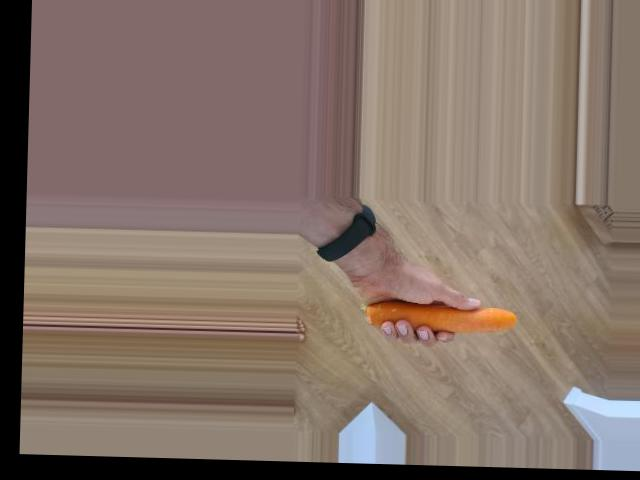carrot: (361, 298, 516, 334)
